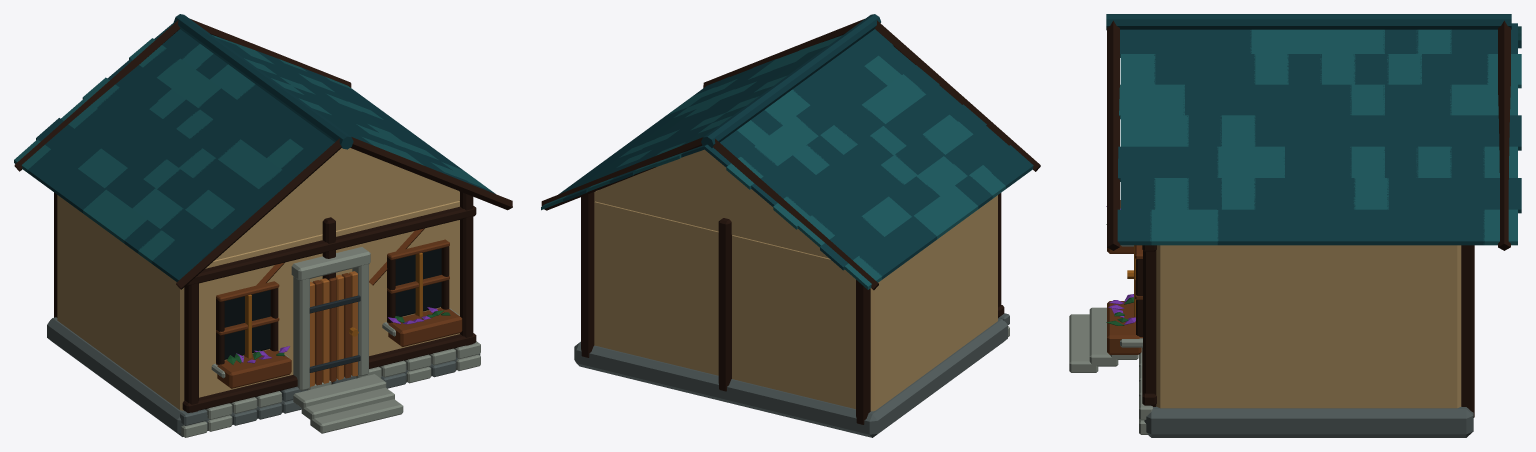
File: Casa_do_herbalista_LOD0.fbx
3 renders of one model, left to right at view 1: azimuth 30°, elevation 25°; view 2: azimuth 150°, elevation 25°; view 3: azimuth 270°, elevation 25°, orthographic. The views are drawn at different scales.
Visible parts, largest first — view 1: Casa_do_herbalista_LOD0; view 2: Casa_do_herbalista_LOD0; view 3: Casa_do_herbalista_LOD0.
Part boxes in pixels (x1,y1,x2,y2): Casa_do_herbalista_LOD0: (14, 14, 512, 437); Casa_do_herbalista_LOD0: (541, 14, 1040, 437); Casa_do_herbalista_LOD0: (1069, 14, 1521, 437).
Bounding box in the file's own units: 649 × 514 × 625.
1 material, 1 textured.
